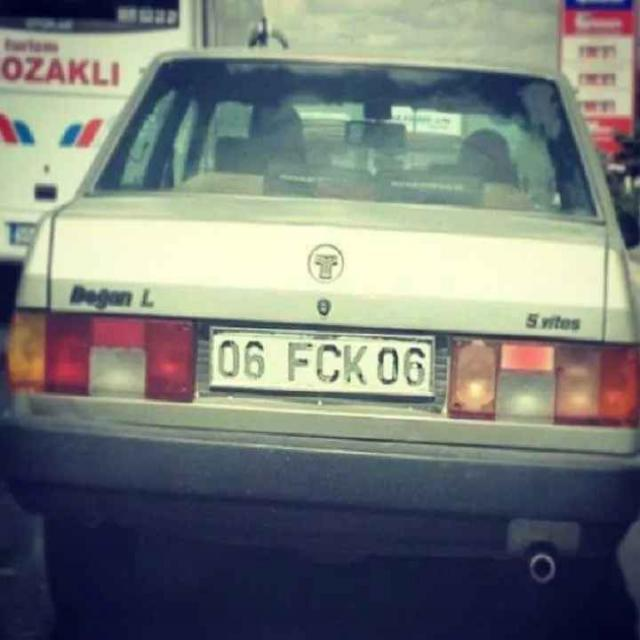plate: (201, 323, 445, 411)
